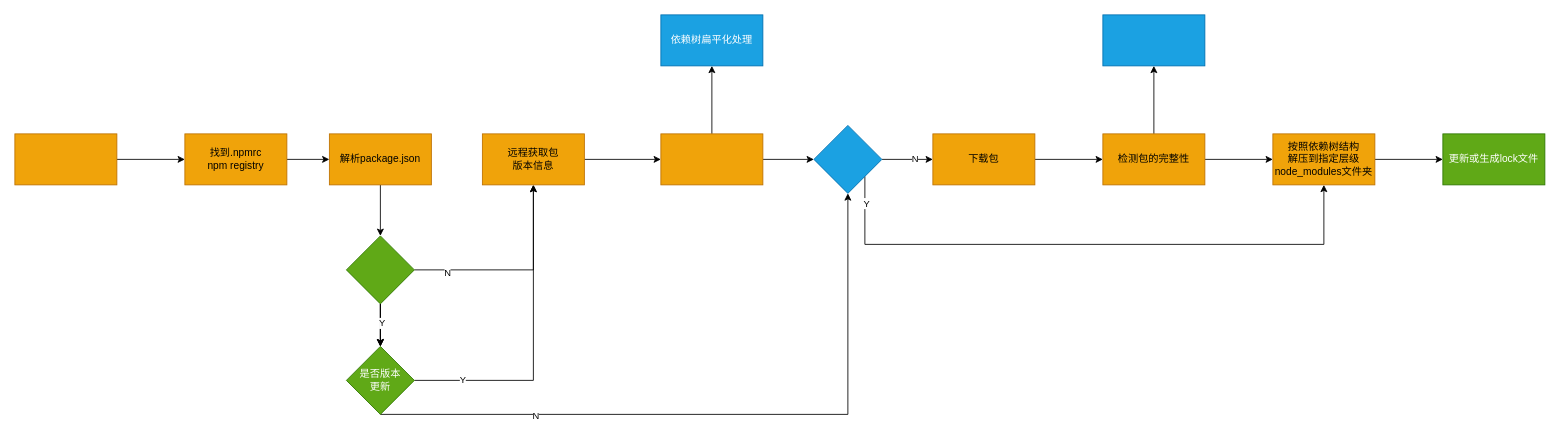
The diagram is 1560 pixels wide and 436 high, and some of its shapes have lost their labels. The centre of each missing label's shape, as x and y in pixels:
npm install: the point at 65,159
有没有 lock文件: the point at 380,269
检查本地缓存 .cache: the point at 847,159
添加本地缓存 .cache: the point at 1153,40
生成依赖树: the point at 711,159
